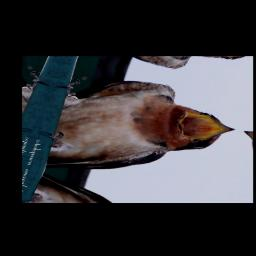Swallow: (29, 65, 246, 198)
